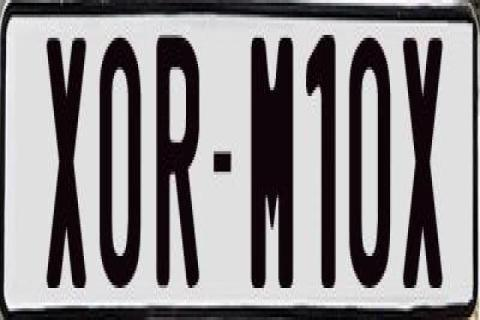0: (350, 38, 396, 297), (98, 32, 140, 282), (304, 29, 336, 285)
M: (251, 32, 293, 300)
R: (152, 26, 200, 294)
X: (402, 32, 448, 285), (44, 29, 84, 297)
